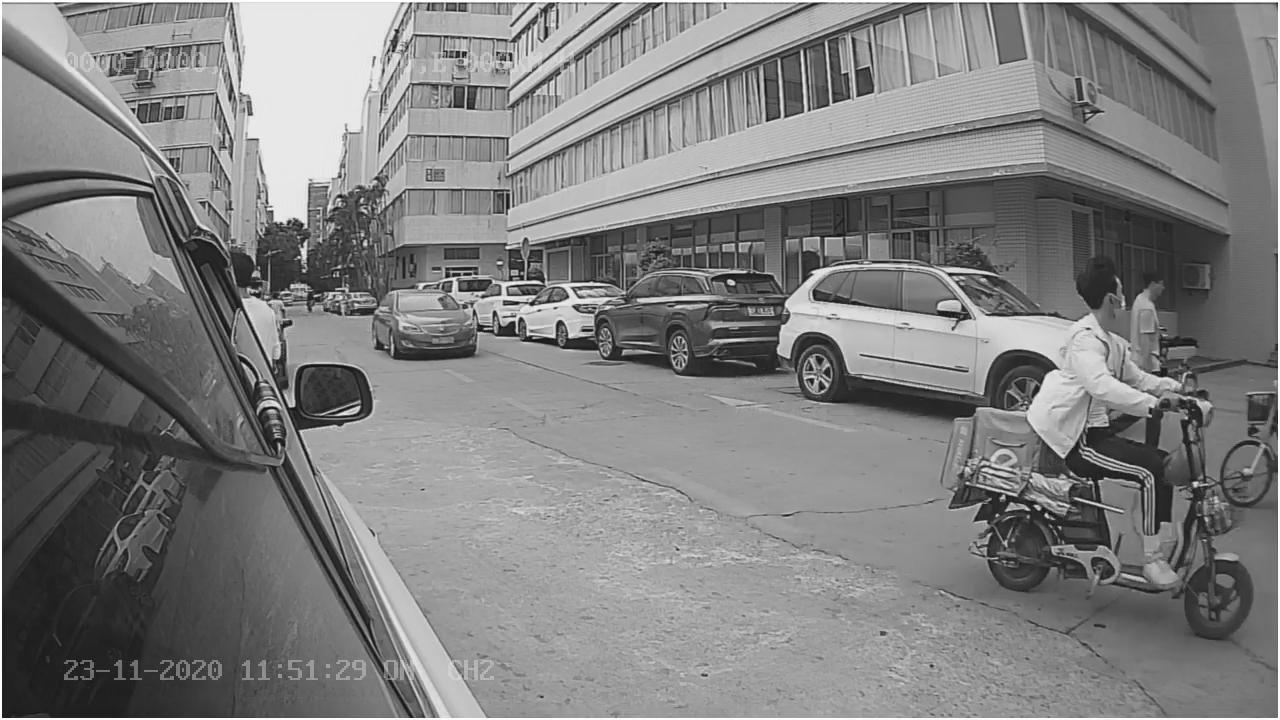person: (1053, 250, 1193, 422)
